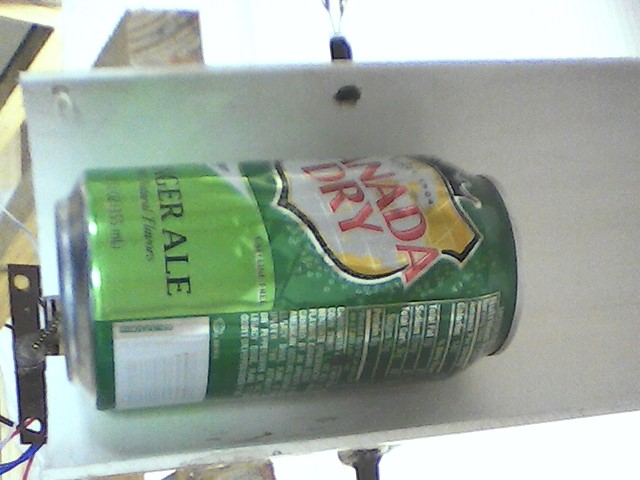lata: (51, 151, 529, 414)
